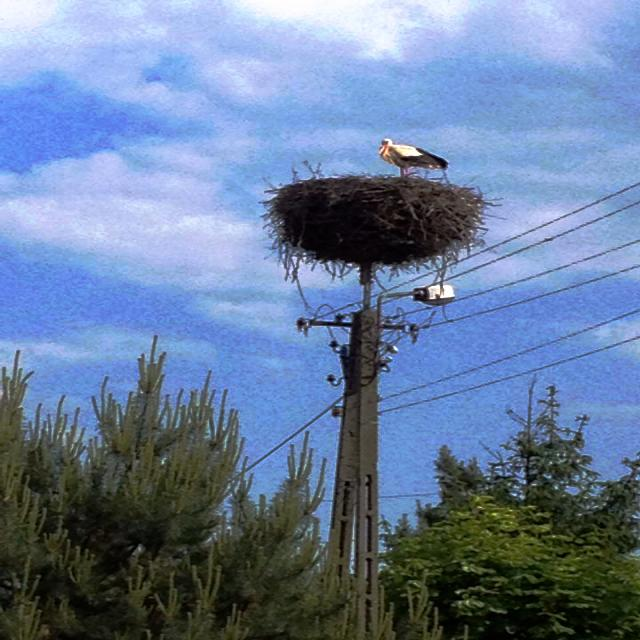obstruction: (269, 176, 484, 272)
poles: (331, 307, 380, 620)
wires: (380, 182, 639, 415)
